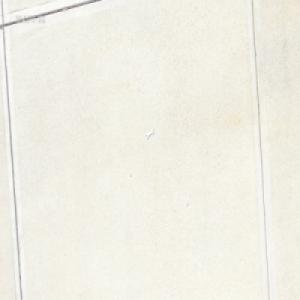Wrench: (145, 130, 154, 140)
